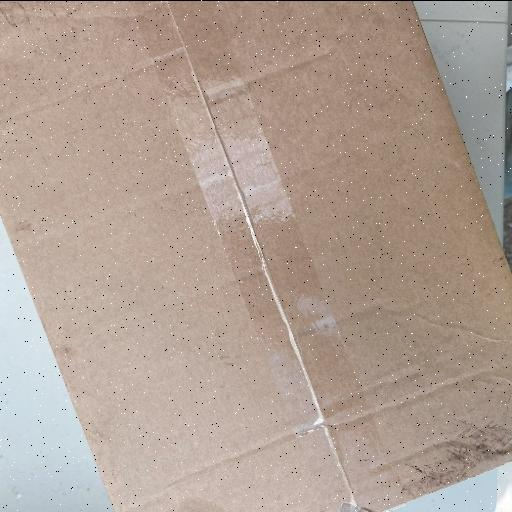Cardboard: (1, 3, 509, 511)
